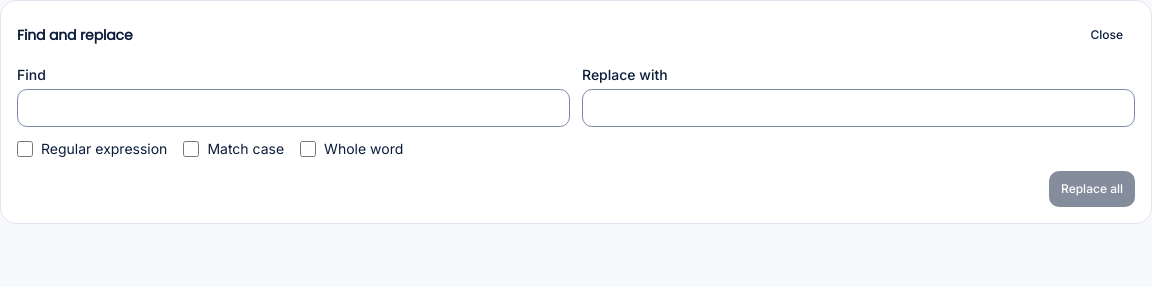
Test: FindReplace › announces that "whole word" does nothing on a Devanagari query
The image size is (1152, 287).
Click the checkbox labelled "Whole word" at [308, 149], box [300,141,316,157]
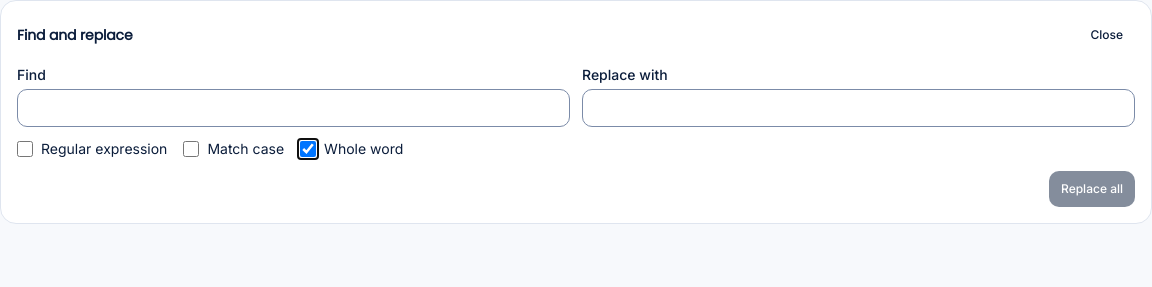
Type "नियम" into the field labelled "Find" at [294, 108], box [17,89,570,127]
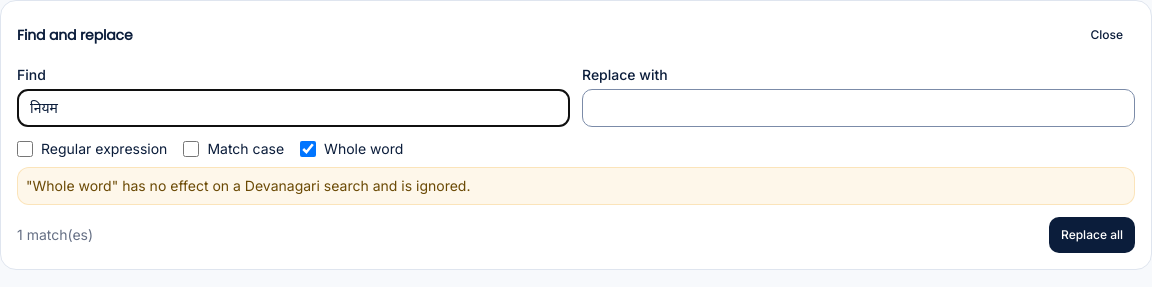
Result: the text "no effect on a Devanagari search" is shown at [26,177,470,194]
